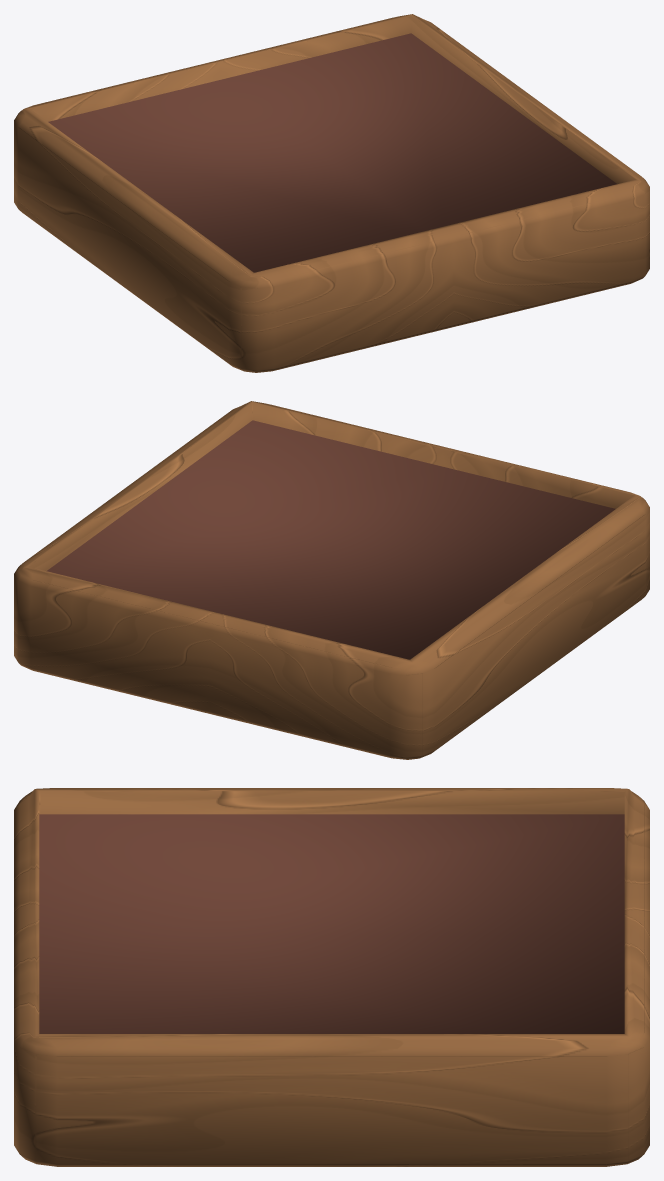
The model's file is CubeNew.fbx.
The picture shows the model from 3 angles, top to bottom: view 1: azimuth 30°, elevation 25°; view 2: azimuth 150°, elevation 25°; view 3: azimuth 270°, elevation 25°; orthographic projection. The views are drawn at different scales.
Parts seen in each view (by area): view 1: Cubee.001; view 2: Cubee.001; view 3: Cubee.001.
Boxes of the visible parts, x1,y1,x2,y2 form: Cubee.001: [14, 14, 649, 372]; Cubee.001: [14, 401, 649, 759]; Cubee.001: [14, 788, 649, 1166].
Bounding box in the file's own units: 9.48 × 2.17 × 9.61.
